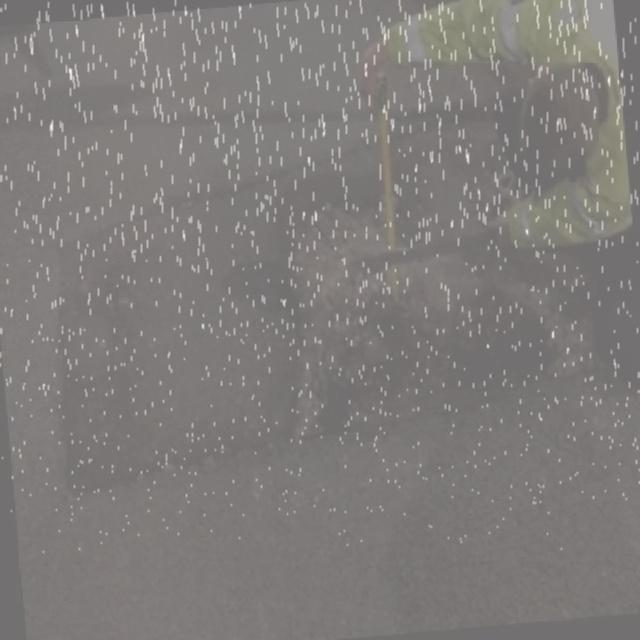Pothole: (36, 102, 640, 523)
